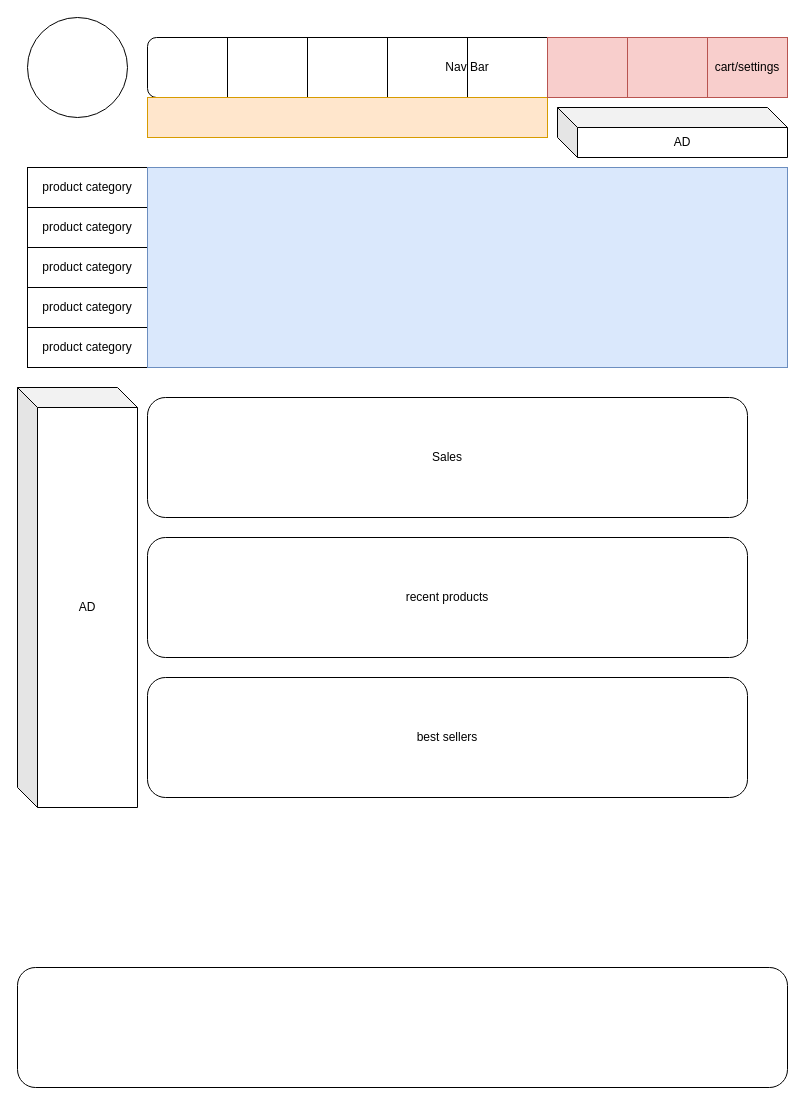
This 805x1105 diagram has some shape labels left out. Each missing label, with the centre of its shape:
"images(carousel)" belongs at (x=467, y=267).
"login/register" belongs at (x=587, y=67).
"logo/home" belongs at (x=77, y=67).
"my account" belongs at (x=667, y=67).
"search" belongs at (x=347, y=117).
"terms of use/ rules/ advertising on the site/ admin info's" belongs at (x=402, y=1027).
